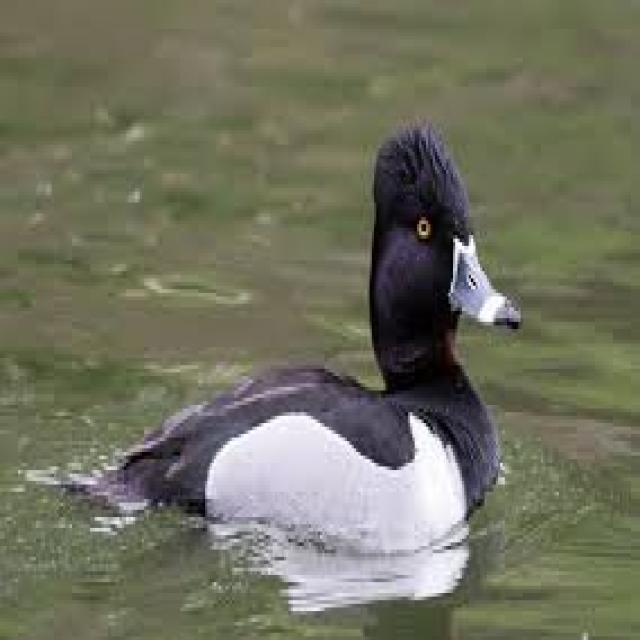Duck: (90, 119, 521, 578)
